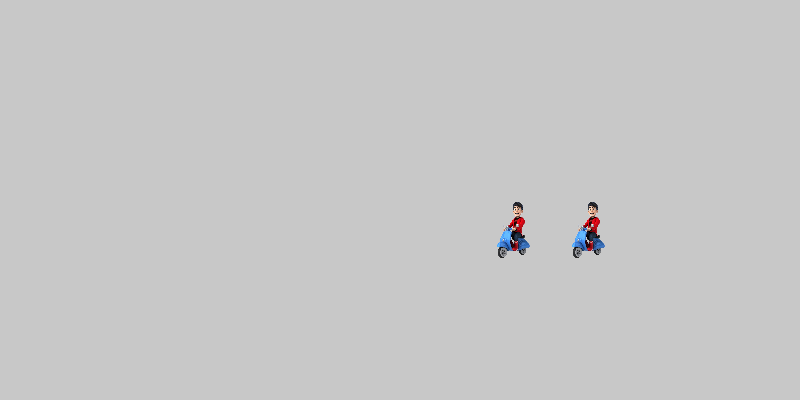no_helmet: (485, 200, 545, 260), (560, 200, 620, 260)
